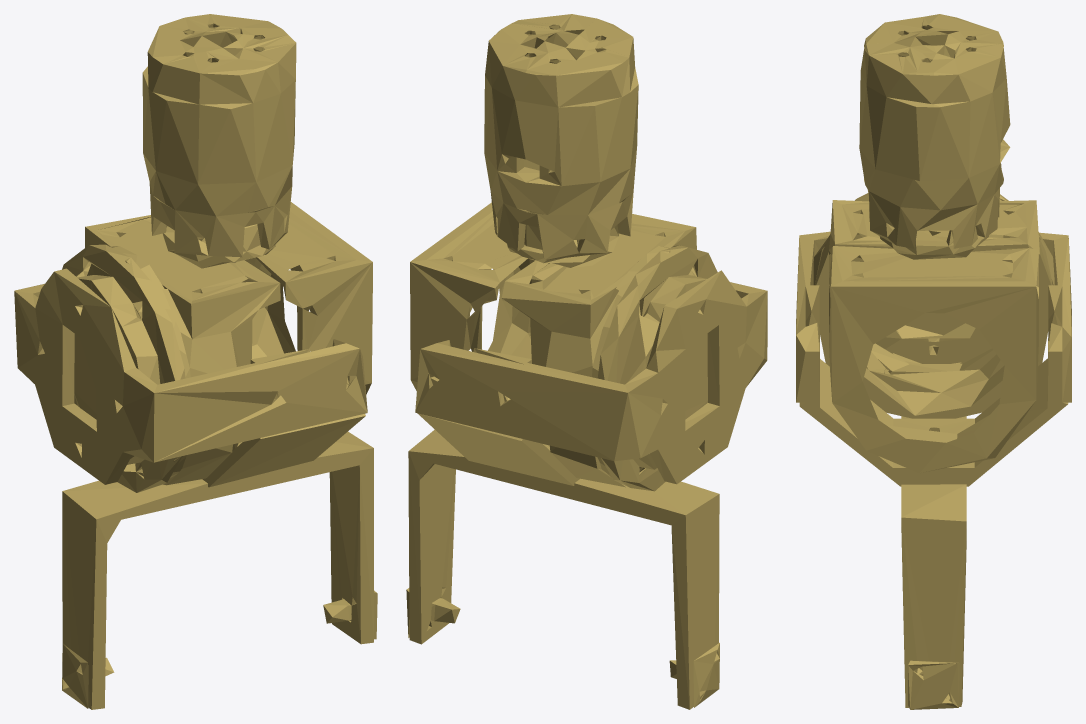
File: r_forearm_pronation.dae
3 renders of one model, left to right at view 1: azimuth 30°, elevation 25°; view 2: azimuth 150°, elevation 25°; view 3: azimuth 270°, elevation 25°, orthographic. The views are drawn at different scales.
Parts seen in each view (by area): view 1: M5R; view 2: M5R; view 3: M5R.
Part boxes in pixels (bbox=[...]): M5R: bbox=[14, 14, 377, 709]; M5R: bbox=[406, 14, 767, 709]; M5R: bbox=[796, 14, 1071, 709].
Bounding box in the file's own units: 0.0694 × 0.059 × 0.1425.
